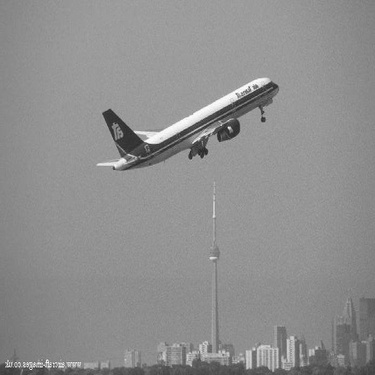airplane: (77, 69, 285, 179)
